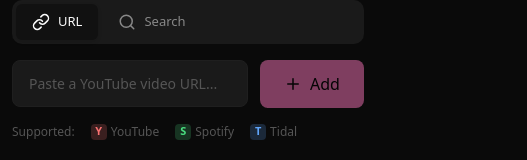
Scenario: URLInput audio preview › shows Preview button when a YouTube video URL is entered
In the field with placeholder "Paste a YouTube video URL...": [130, 83] box left=12, top=60, right=248, bottom=106, type "https://www.youtube.com/watch?v=dQw4w9WgXcQ"
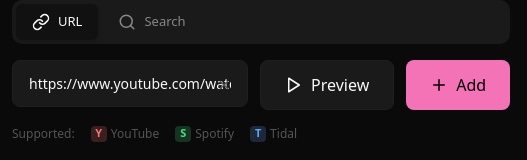
Check: the button titled "Preview 30s audio" is shown, box left=260, top=60, right=394, bottom=110
